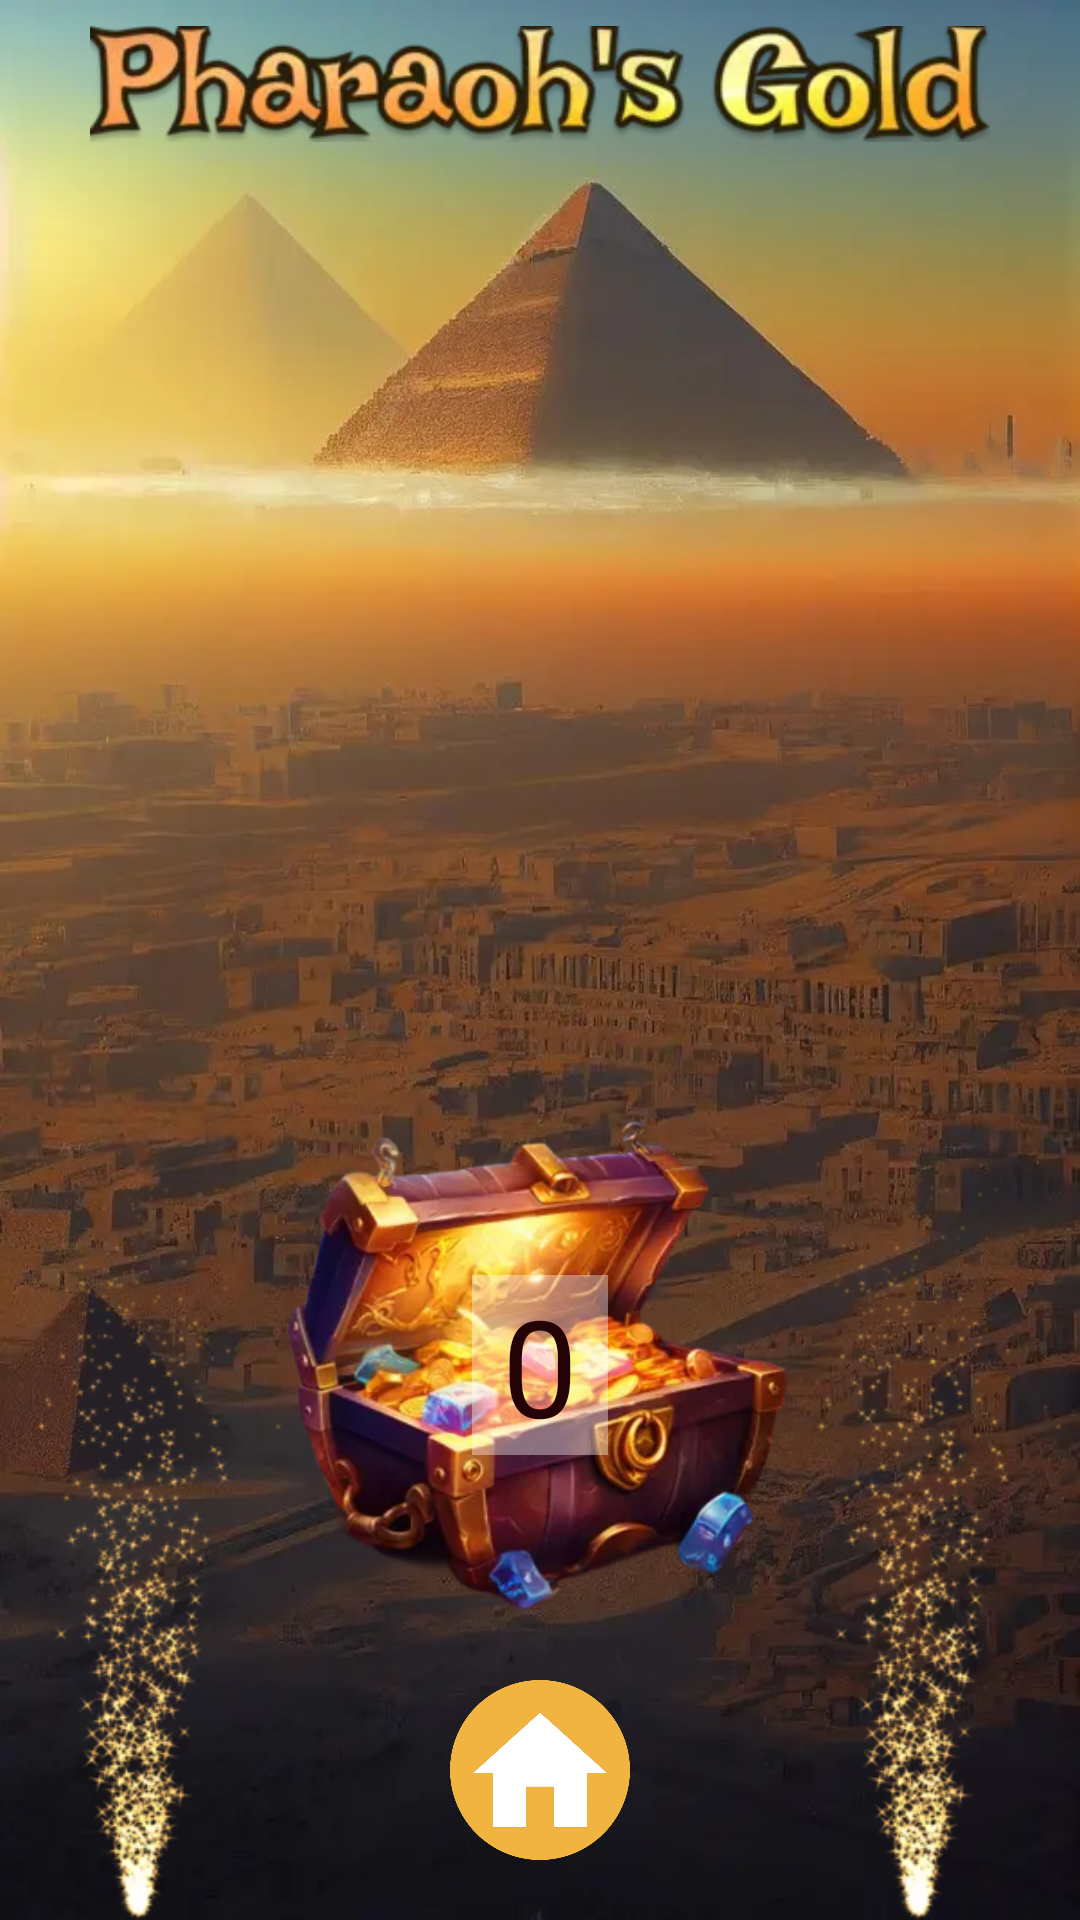

Screen size 1080w x 1920h. Icon name, then its center in pixels as [x,y]:
Navigate to menu: [540,1770]
